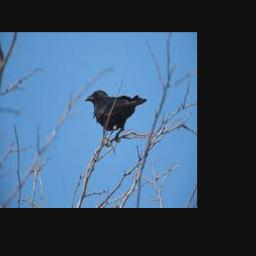Crow: (84, 89, 146, 142)
